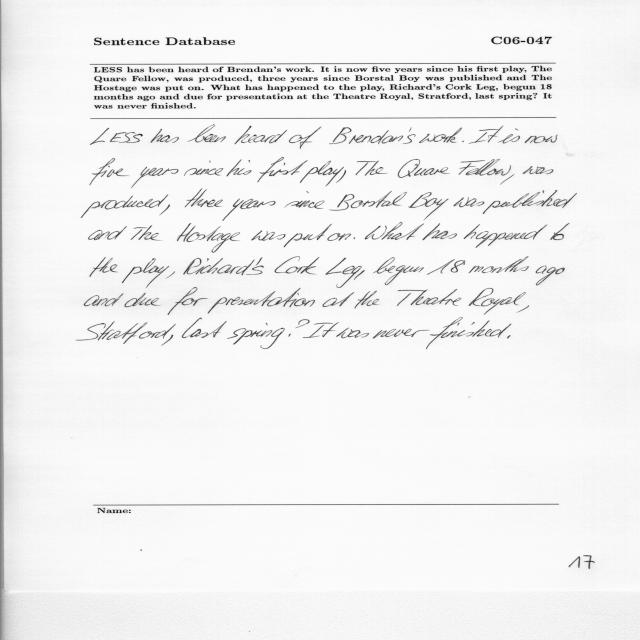word: (208, 288, 315, 313), (426, 318, 511, 349), (76, 321, 176, 344), (483, 190, 577, 214), (82, 194, 169, 218), (464, 224, 547, 248), (177, 223, 240, 253), (414, 159, 511, 176), (329, 191, 407, 211), (469, 288, 526, 315), (227, 323, 285, 349), (329, 127, 416, 144), (183, 257, 264, 275), (373, 257, 424, 285), (122, 258, 169, 288), (257, 158, 308, 183), (223, 199, 276, 221), (408, 192, 449, 220), (167, 287, 208, 315), (325, 257, 362, 288), (300, 161, 344, 187), (283, 224, 332, 247), (397, 289, 461, 306), (365, 222, 424, 240), (90, 158, 129, 185), (235, 126, 287, 145), (131, 167, 178, 188), (469, 257, 529, 273), (90, 128, 143, 145), (182, 318, 227, 338), (275, 257, 320, 274), (285, 191, 325, 209), (289, 127, 321, 149), (419, 127, 462, 143), (185, 189, 223, 207), (187, 125, 226, 142), (469, 126, 504, 144), (427, 259, 465, 275), (422, 223, 457, 240), (184, 161, 223, 176), (536, 266, 565, 286), (303, 322, 339, 338), (373, 329, 430, 339), (90, 257, 118, 277), (89, 226, 127, 240), (85, 294, 124, 307), (125, 293, 161, 307), (355, 161, 387, 176), (131, 225, 161, 241), (323, 292, 355, 307), (226, 159, 252, 176), (355, 291, 380, 308), (398, 159, 420, 178), (150, 129, 179, 143), (289, 319, 310, 337), (251, 231, 286, 241), (550, 223, 570, 240), (498, 129, 520, 144), (336, 328, 369, 338), (454, 198, 485, 208), (525, 135, 558, 143), (523, 166, 553, 174), (327, 233, 351, 241), (500, 174, 515, 185), (161, 335, 174, 346), (336, 170, 346, 183), (160, 205, 171, 216), (354, 270, 365, 280), (517, 306, 529, 313), (166, 272, 175, 279), (507, 335, 511, 339), (354, 238, 356, 240), (462, 141, 464, 142)
